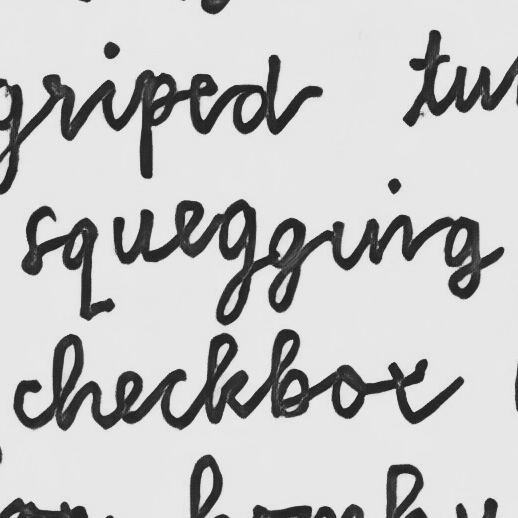e: (172, 196, 209, 261)
g: (212, 196, 260, 327), (265, 215, 308, 316), (442, 214, 484, 301)
i: (329, 212, 348, 272)
n: (360, 210, 416, 267)
q: (59, 215, 100, 324)
s: (20, 203, 58, 278)
u: (110, 204, 158, 268)
